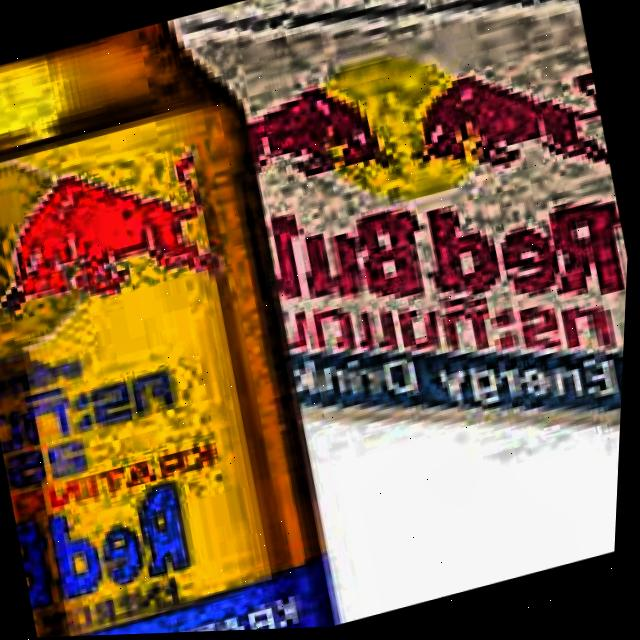metal: (0, 0, 378, 640)
